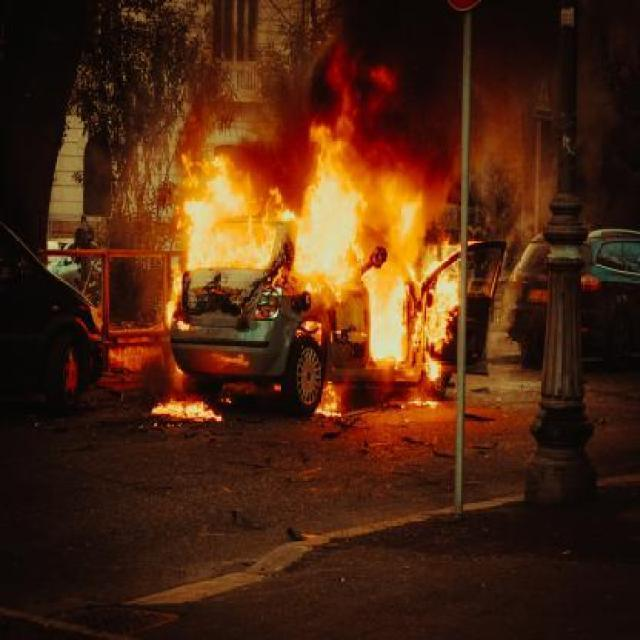Fire: (158, 54, 476, 418)
Smoke: (265, 0, 547, 267)
